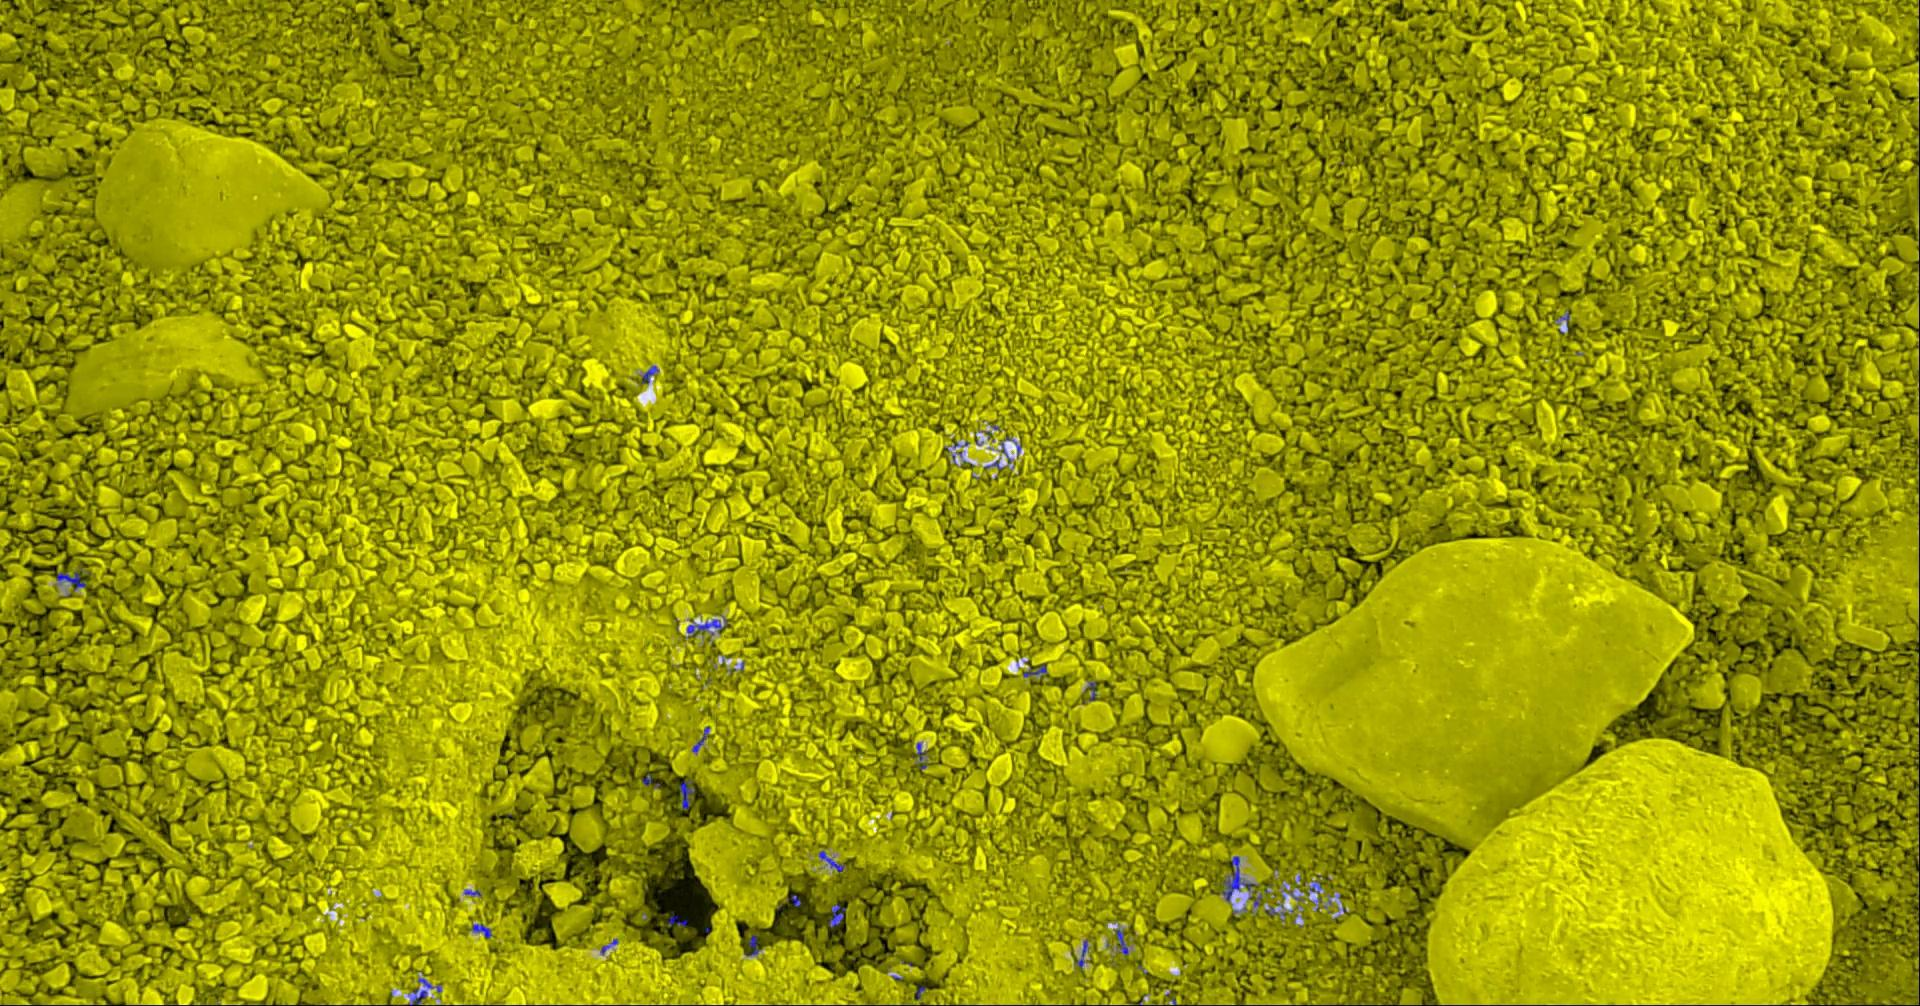ant: (1213, 855, 1263, 906), (410, 977, 443, 1005), (688, 619, 729, 636), (57, 568, 88, 589), (820, 850, 846, 873), (681, 780, 697, 808), (913, 742, 930, 768), (693, 727, 711, 751), (830, 904, 847, 927), (1116, 929, 1130, 955), (643, 365, 660, 384), (1023, 663, 1048, 677), (1078, 939, 1090, 967), (747, 934, 761, 955), (472, 923, 493, 937), (669, 915, 690, 926)
